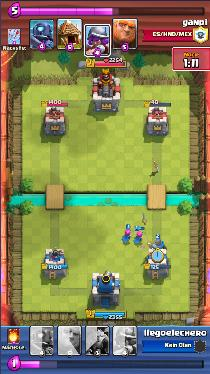ally_archer: (133, 232, 144, 244), (122, 230, 132, 243)
ally_knight: (148, 238, 168, 249)
